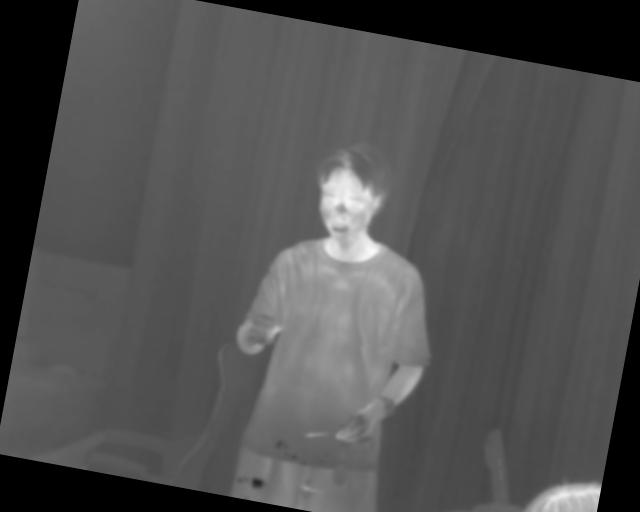face: (305, 137, 394, 252)
